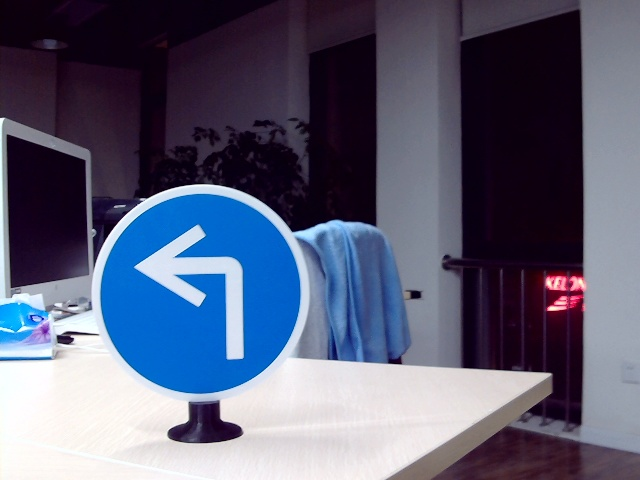turn_left: (135, 222, 253, 367)
